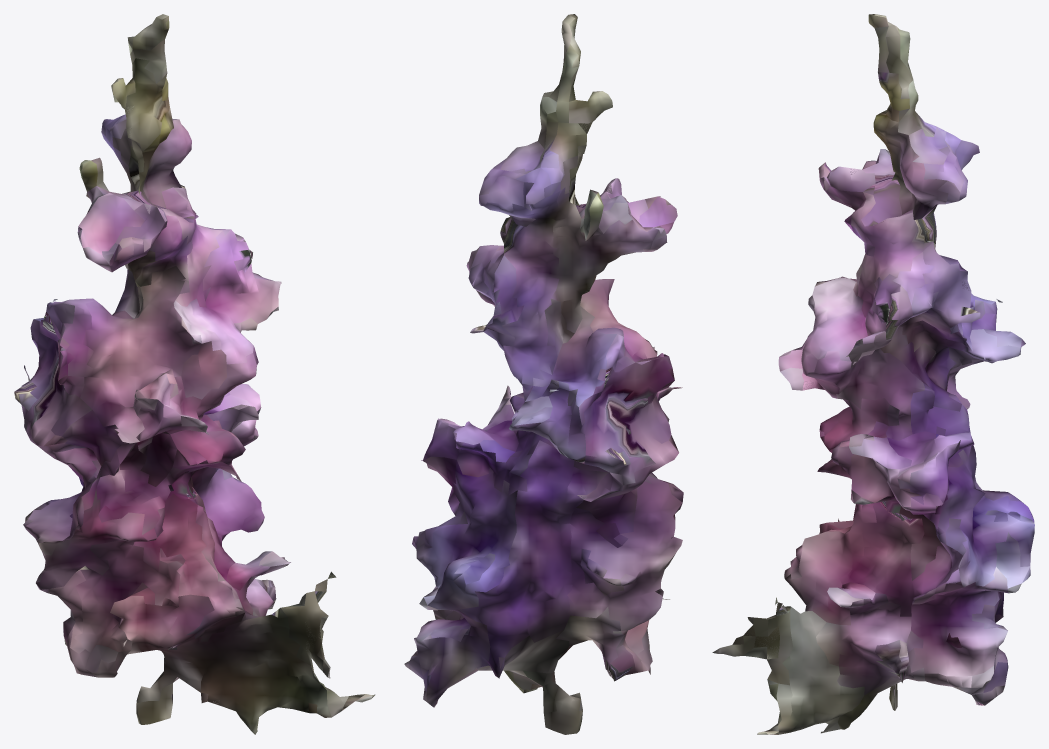
3 views of the same model, side by side, from view 1: azimuth 30°, elevation 25°; view 2: azimuth 150°, elevation 25°; view 3: azimuth 270°, elevation 25° (orthographic). The views are drawn at different scales.
Parts seen in each view (by area): view 1: c3bad860; view 2: c3bad860; view 3: c3bad860.
Boxes of the visible parts, box(x1,y1,x2,y2) form: c3bad860: box(14, 14, 375, 734); c3bad860: box(404, 14, 683, 734); c3bad860: box(712, 14, 1034, 734).
Bounding box in the file's own units: 0.0815 × 0.2088 × 0.0883.
Materials: 1 (1 with a texture image).
